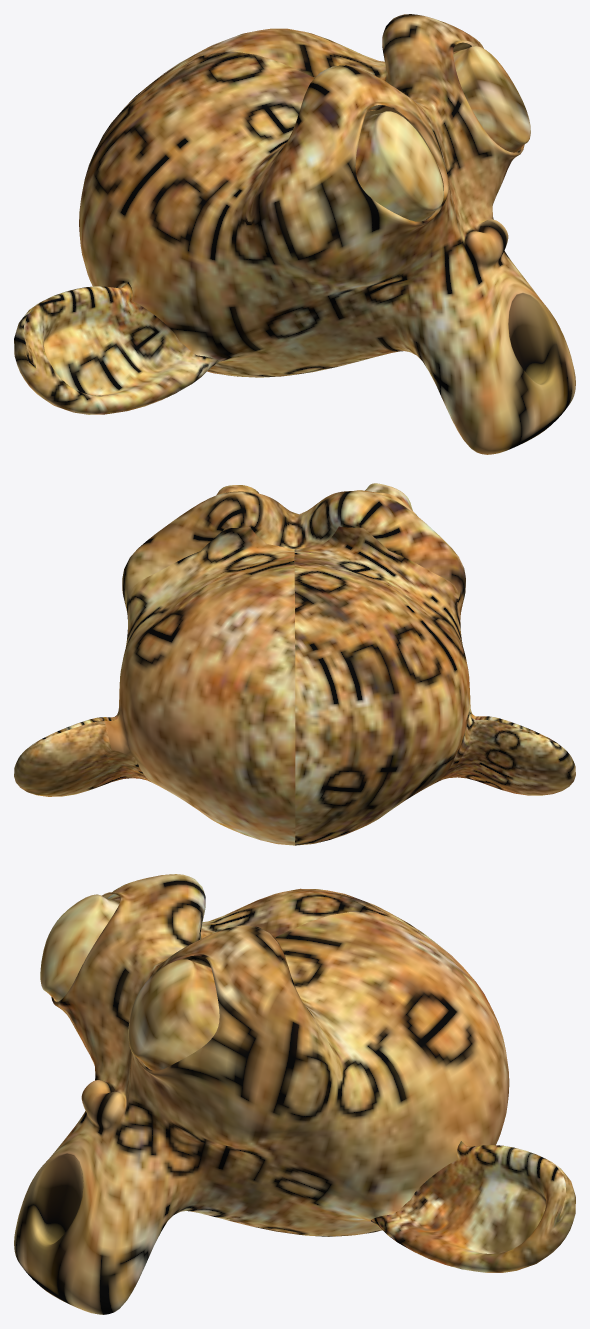
3 renders of one model, top to bottom at view 1: azimuth 30°, elevation 25°; view 2: azimuth 150°, elevation 25°; view 3: azimuth 270°, elevation 25°, orthographic. The views are drawn at different scales.
Visible parts, largest first — view 1: Suzanne; view 2: Suzanne; view 3: Suzanne.
Boxes of the visible parts, x1,y1,x2,y2 form: Suzanne: (14,14,575,454); Suzanne: (14,483,575,845); Suzanne: (14,874,575,1314).
Bounding box in the file's own units: 2.33 × 1.52 × 2.19.
1 material, 1 textured.
